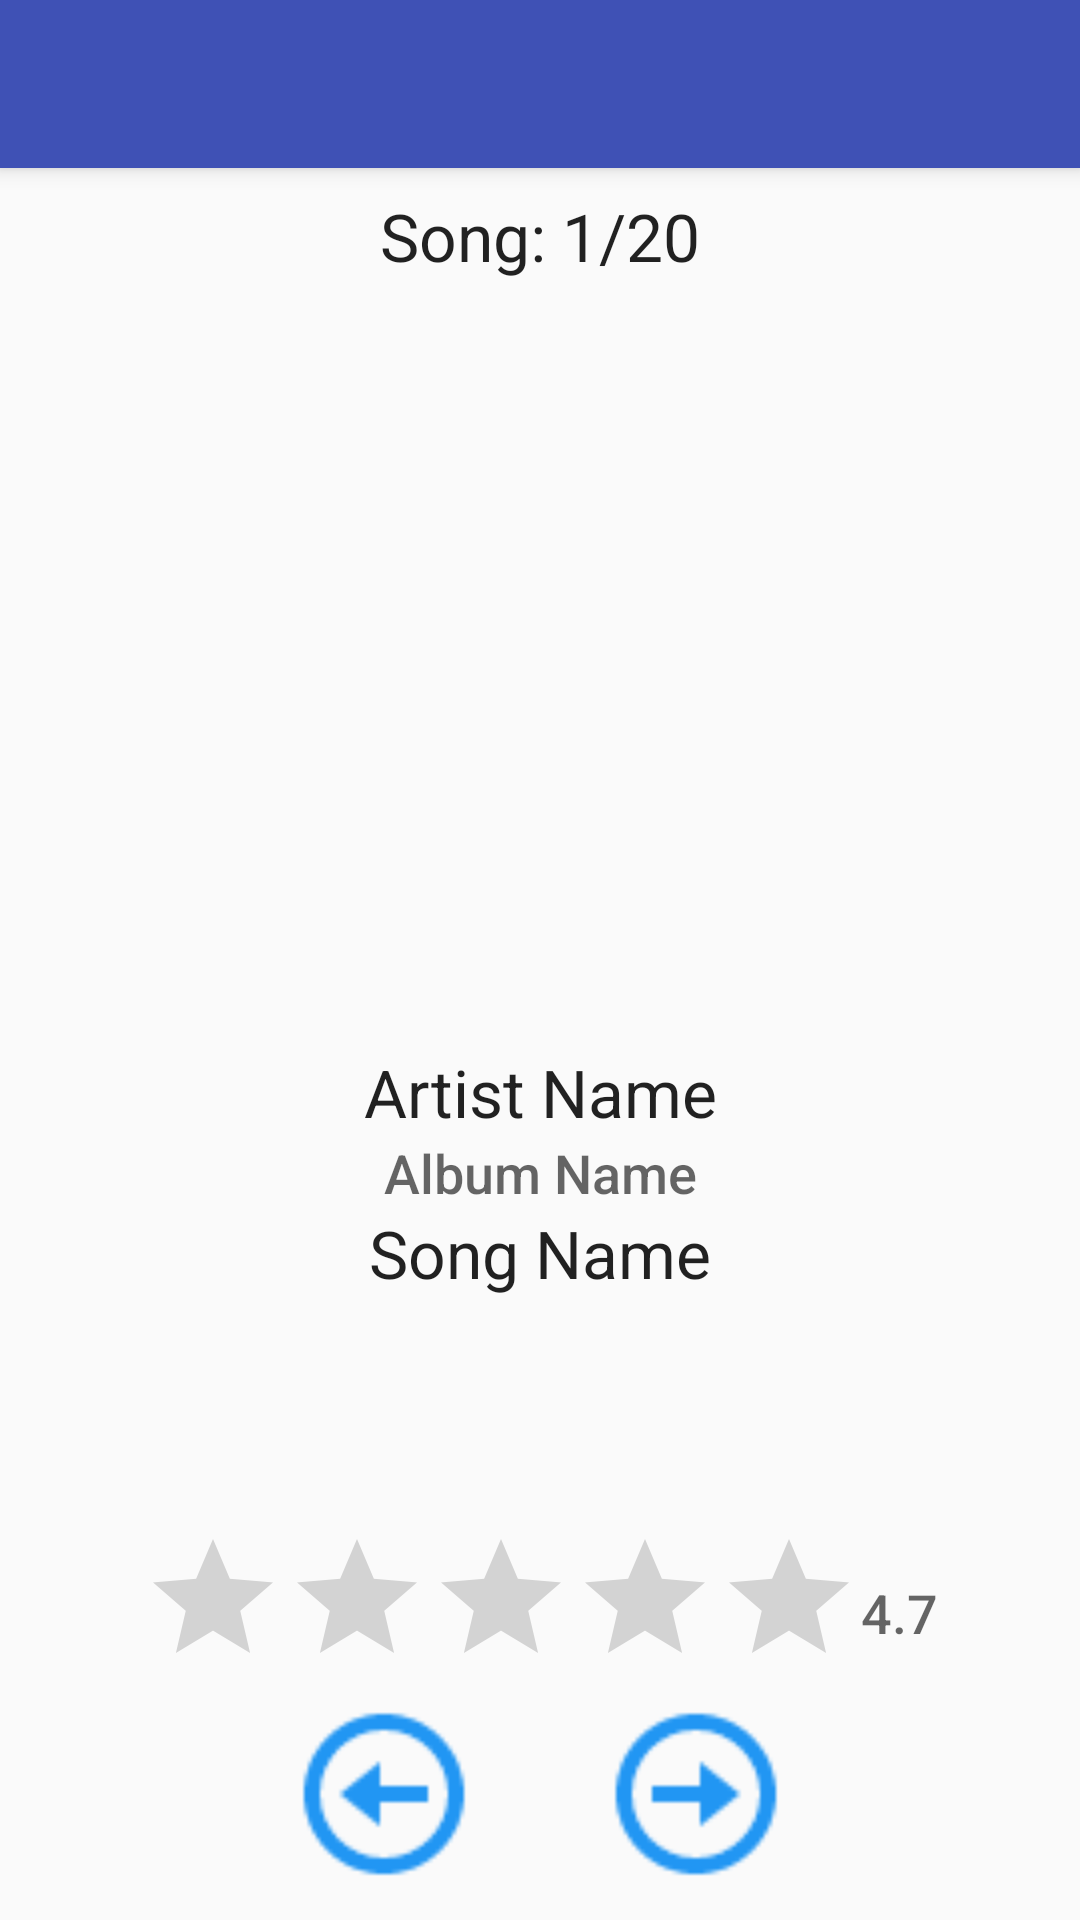

Locate icon controls on the screen. Image size 1080x1920, boxes as (x1, y1, x2, y2).
next: (614, 1712, 778, 1876)
previous: (302, 1712, 466, 1876)
